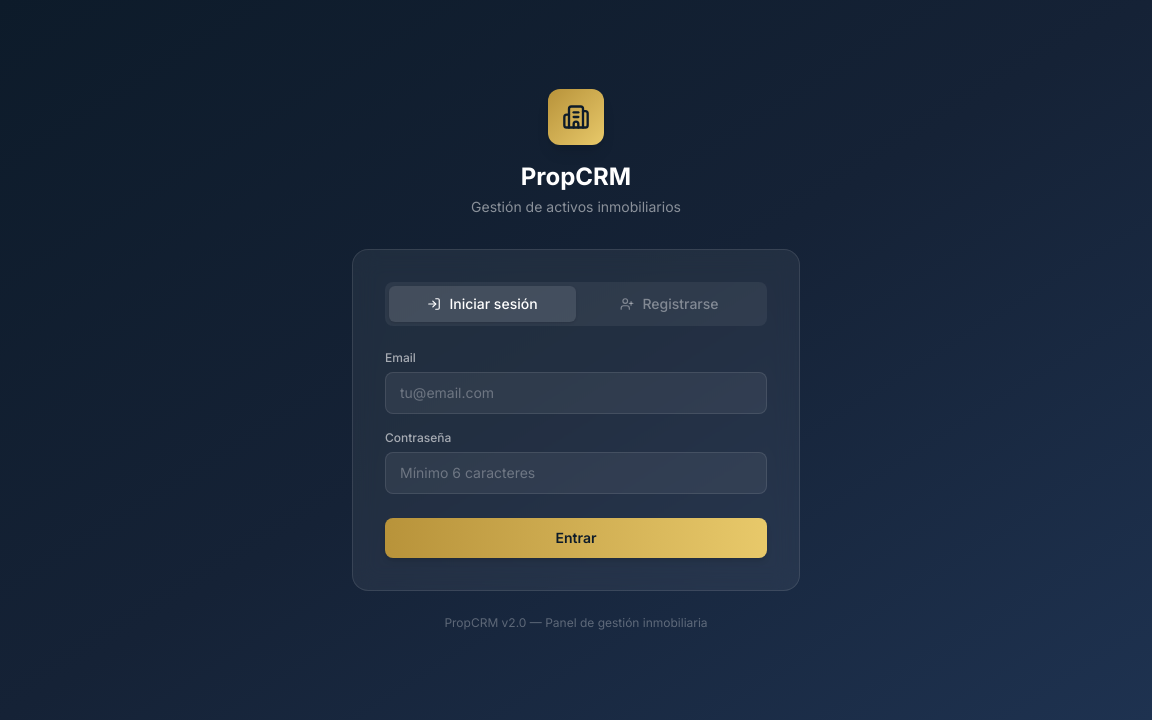
Scenario: LoginPage registration form › shows phone field only in register mode
Check: the field with placeholder "000 00 00 00" is not shown
Switch to register mode
Click the button "Registrarse" at x=670, y=304, box [576,286,763,322]
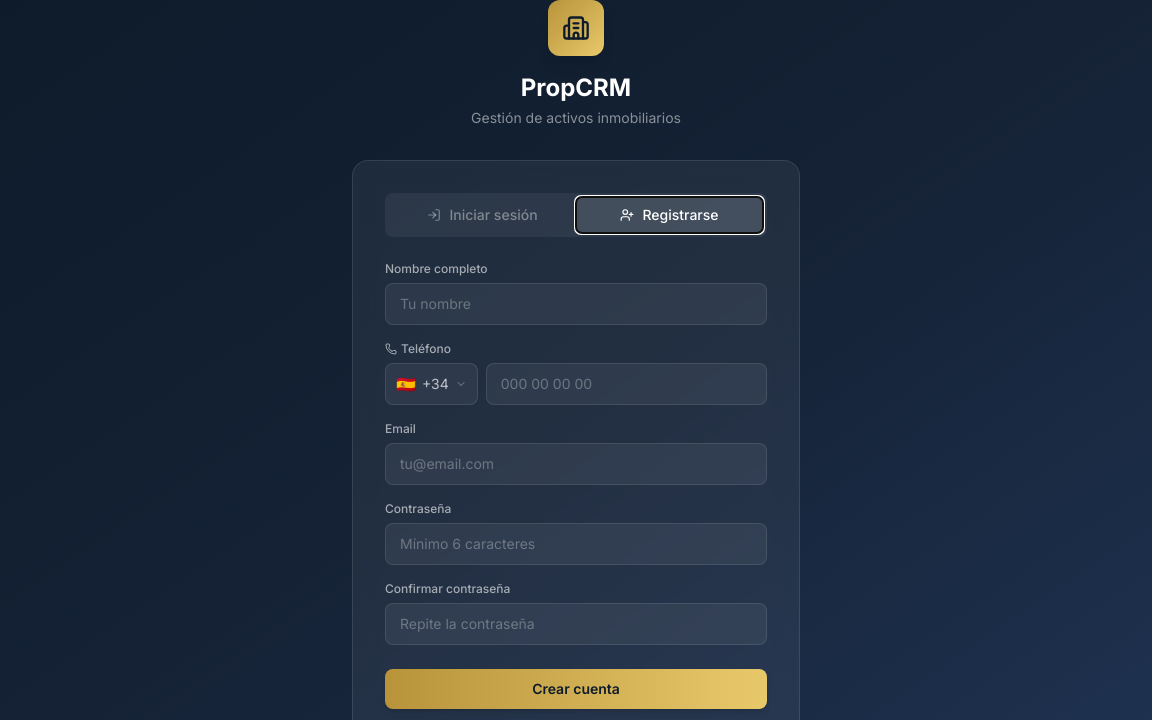
Check: the field with placeholder "000 00 00 00" is shown, box [486,363,767,405]
